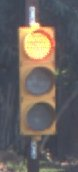Red: (6, 16, 67, 146)
